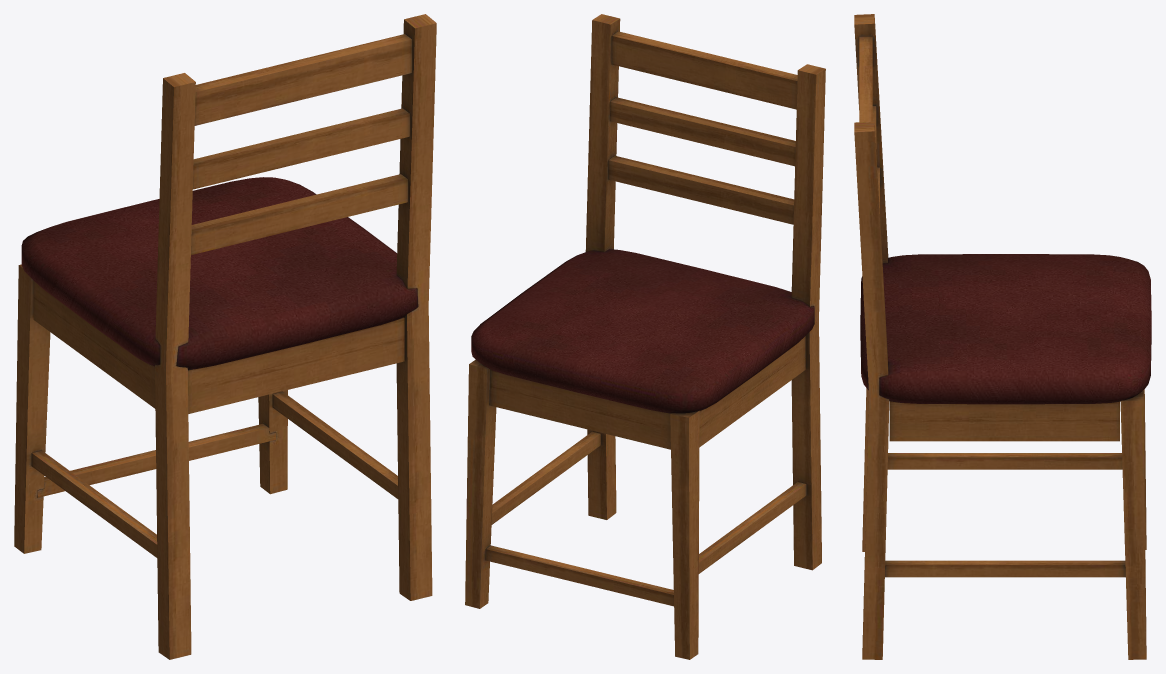
File: chair_ladder_web.glb
3 renders of one model, left to right at view 1: azimuth 30°, elevation 25°; view 2: azimuth 150°, elevation 25°; view 3: azimuth 270°, elevation 25°, orthographic. The views are drawn at different scales.
Visible parts, largest first — view 1: ChairLadder_Mesh; view 2: ChairLadder_Mesh; view 3: ChairLadder_Mesh.
Boxes of the visible parts, left/top/right/bottom form: ChairLadder_Mesh: left=14, top=14, right=436, bottom=659; ChairLadder_Mesh: left=465, top=14, right=825, bottom=659; ChairLadder_Mesh: left=854, top=14, right=1151, bottom=659.
Bounding box in the file's own units: 0.44 × 0.8613 × 0.439.
Materials: 1 (1 with a texture image).
